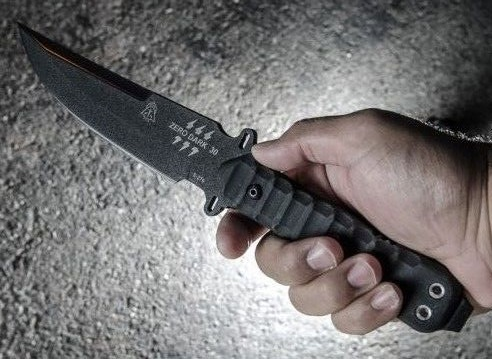knife: (8, 13, 303, 252)
